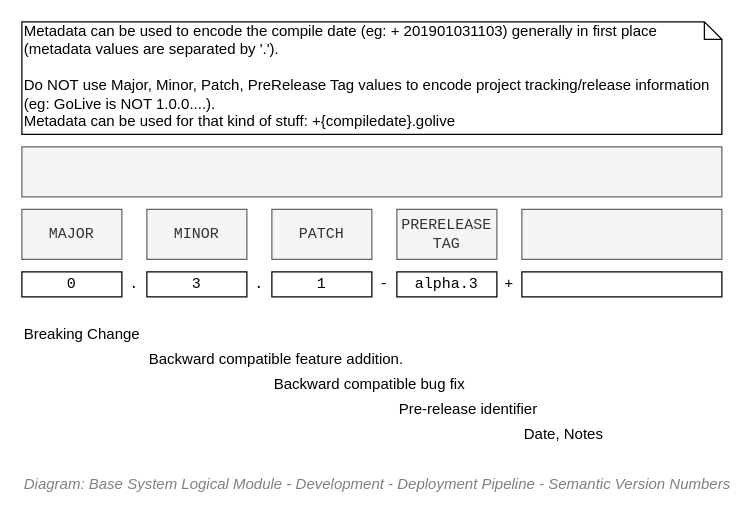
The diagram is 753 pixels wide and 519 high, and some of its shapes have lost their labels. Each missing label, with the centre of its shape:
"201901031103.Sprint17" belongs at pixel 621 284.
"METADATA" belongs at pixel 621 233.
"SEMANTIC VERSIONING" belongs at pixel 371 171.
